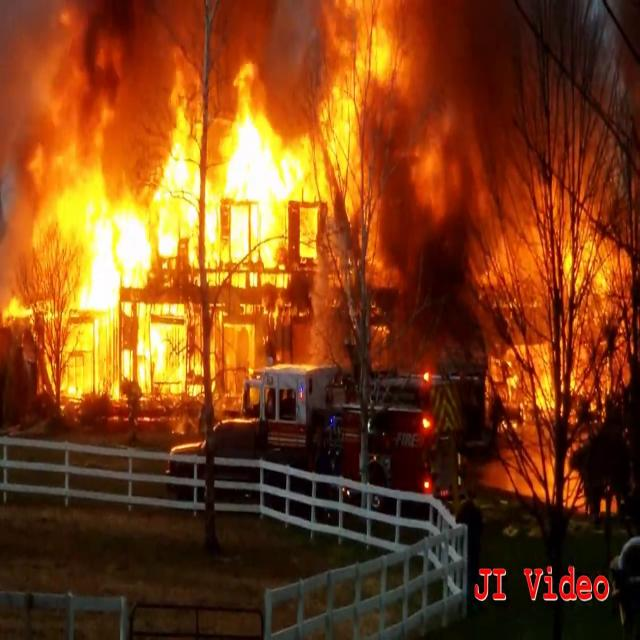Fire: (0, 54, 398, 422), (419, 0, 640, 499)
